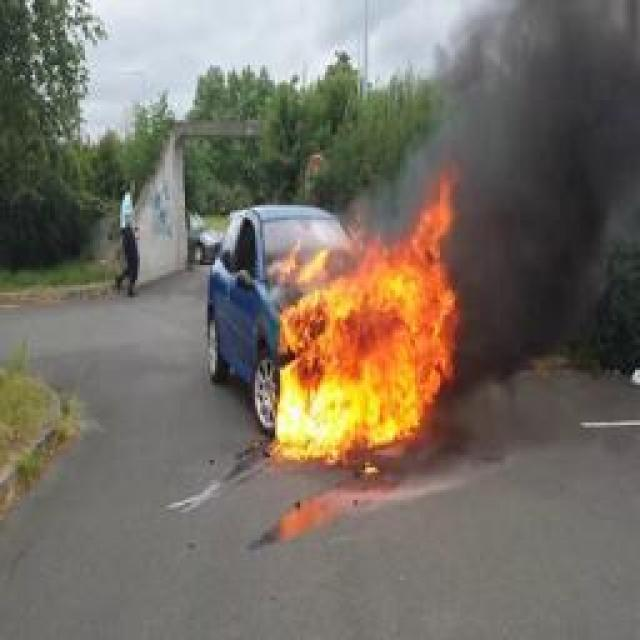Fire: (266, 170, 464, 462)
